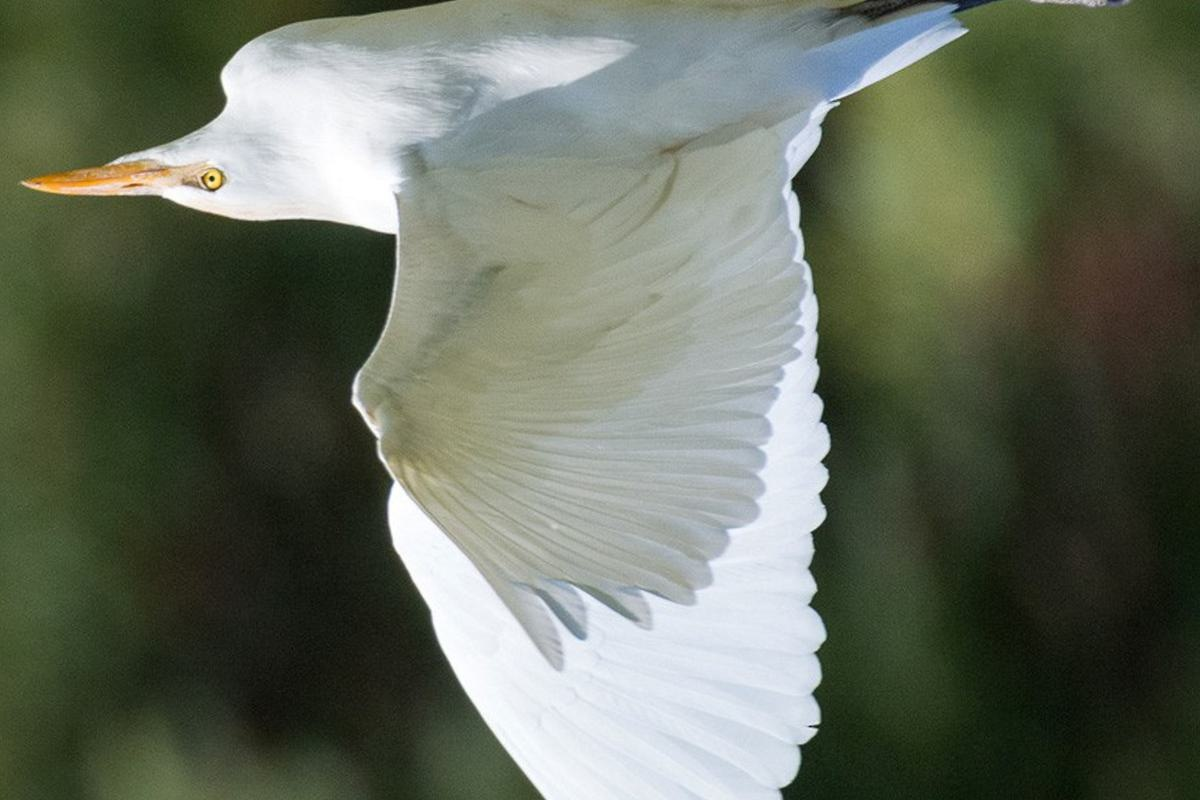egret: (10, 1, 977, 795)
